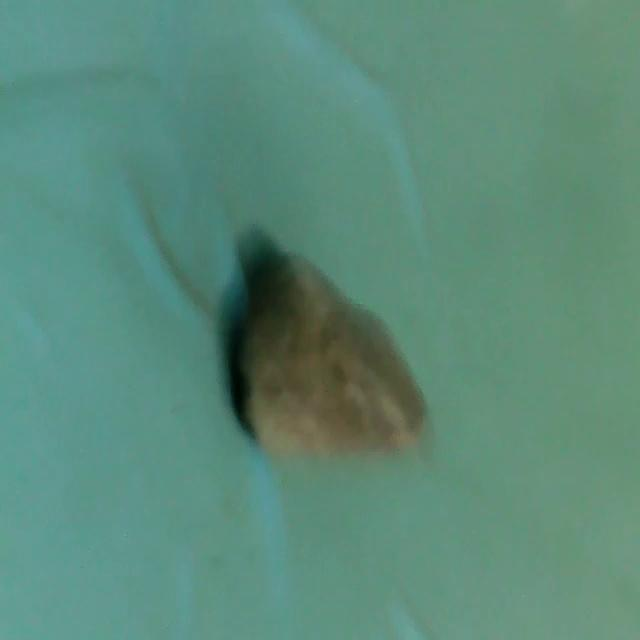rock: (227, 232, 430, 467)
